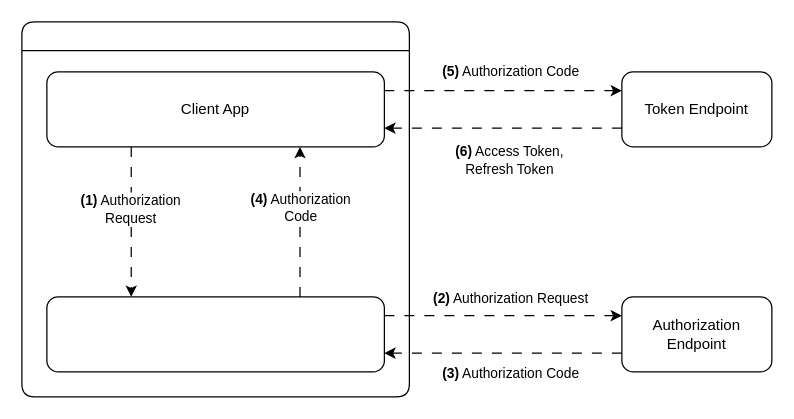
Some shapes in this 794 by 419 pixel diagram are drawn without their labels. Each missing label, with the box of its shape:
Browser: (46, 296, 384, 372)
User Device: (21, 21, 409, 397)
